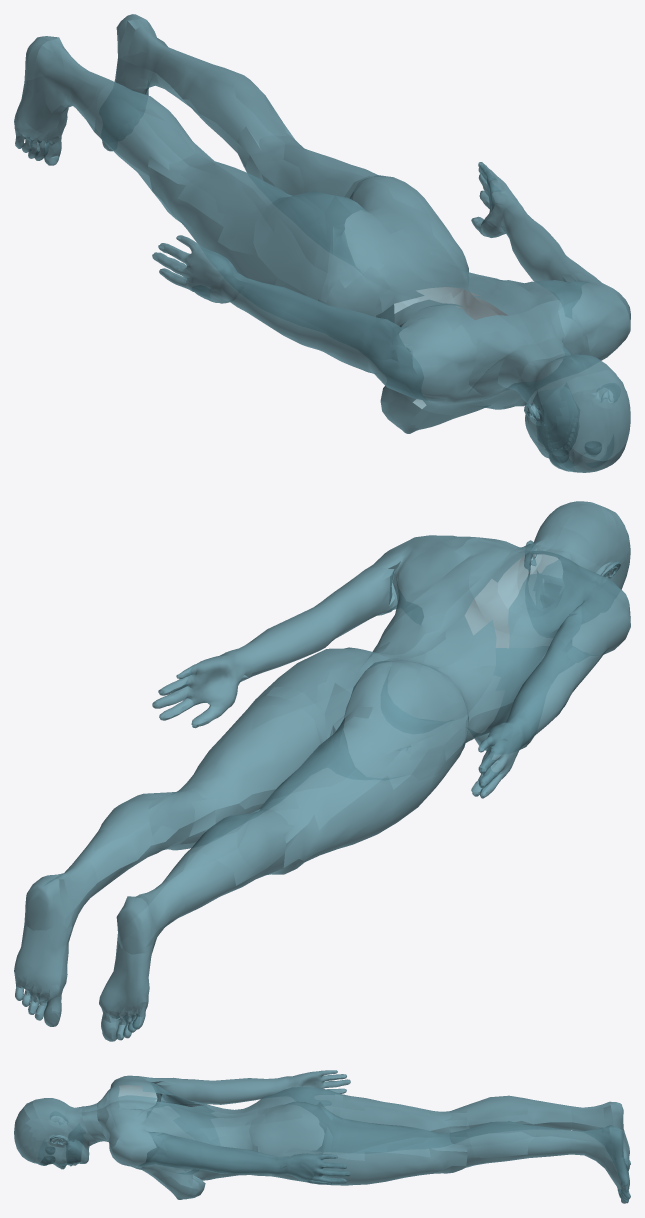
3 views of the same model, one above another, from view 1: azimuth 30°, elevation 25°; view 2: azimuth 150°, elevation 25°; view 3: azimuth 270°, elevation 25° (orthographic). The views are drawn at different scales.
Visible parts, largest first — view 1: r_torso_b0, r_torso_ba, r_upperleg, l_pelvis_g, l_upperleg, l_upperle1, r_lowerleg, l_lowerleg, l_lowerle0, r_upperle1, r_lowerle0, head_upper (+28 smaller); view 2: r_torso_ba, r_torso_b0, r_upperle1, l_upperleg, r_upperleg, l_upperle1, l_pelvis_g, r_pelvis_g, l_lowerle0, r_lowerle0, l_lowerleg, r_lowerleg (+28 smaller); view 3: r_torso_ba, r_torso_b0, r_upperleg, r_upperle1, r_pelvis_g, l_upperleg, l_upperle1, r_lowerle0, r_lowerleg, l_hip01, l_lowerle0, l_pelvis_g (+28 smaller).
Part boxes in pixels (x1,y1,x2,y2): r_torso_b0: (152, 235, 535, 419); r_torso_ba: (468, 162, 630, 407); r_upperleg: (238, 134, 464, 300); l_pelvis_g: (253, 191, 395, 302); l_upperleg: (148, 165, 326, 300); l_upperle1: (148, 145, 329, 272); r_lowerleg: (156, 50, 284, 161); l_lowerleg: (69, 71, 187, 191); l_lowerle0: (94, 84, 213, 175); r_upperle1: (237, 126, 427, 213); r_lowerle0: (182, 62, 294, 153); head_upper: (555, 382, 630, 461); r_torso_ba: (152, 535, 533, 728); r_torso_b0: (471, 550, 630, 798); r_upperle1: (148, 686, 326, 836); l_upperleg: (238, 740, 464, 867); r_upperleg: (148, 704, 320, 844); l_upperle1: (237, 706, 428, 846); l_pelvis_g: (344, 658, 468, 760); r_pelvis_g: (252, 647, 389, 728); l_lowerle0: (183, 809, 294, 885); r_lowerle0: (95, 790, 206, 860); l_lowerleg: (156, 849, 284, 919); r_lowerleg: (70, 822, 187, 898); r_torso_ba: (97, 1100, 350, 1187); r_torso_b0: (97, 1070, 350, 1168); r_upperleg: (270, 1137, 472, 1185); r_upperle1: (321, 1115, 470, 1160); r_pelvis_g: (249, 1101, 340, 1156); l_upperleg: (266, 1105, 466, 1150); l_upperle1: (322, 1093, 469, 1132); r_lowerle0: (449, 1121, 538, 1157); r_lowerleg: (466, 1126, 571, 1165); l_hip01: (211, 1105, 290, 1152); l_lowerle0: (444, 1095, 538, 1128); l_pelvis_g: (245, 1087, 342, 1122).
Bounding box in the file's own units: 27.24 × 13.27 × 75.47.
